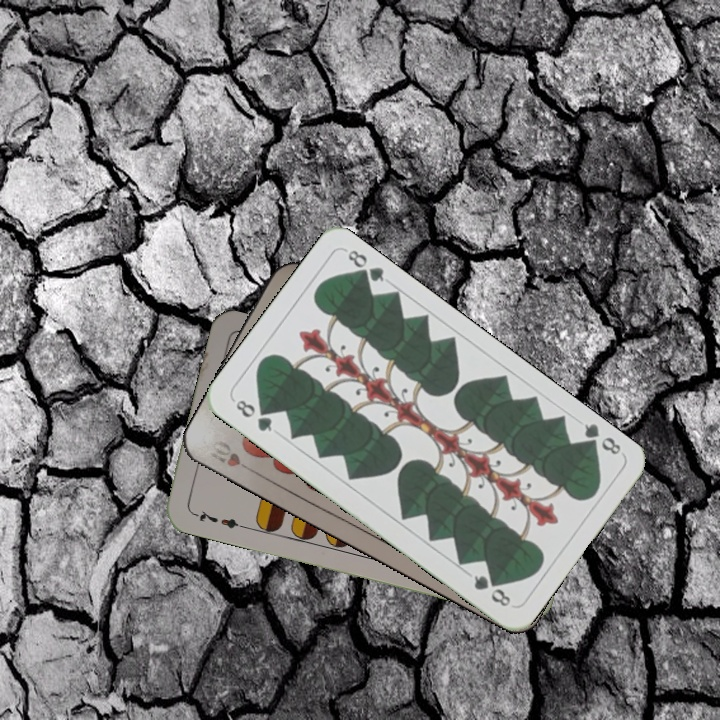E7: (188, 506, 246, 531)
G8: (577, 419, 624, 458), (231, 395, 275, 435)
H10: (202, 436, 258, 476)
